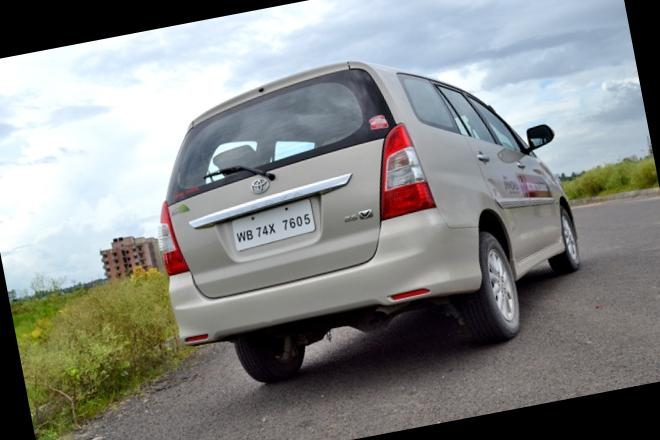plate: (225, 188, 332, 267)
